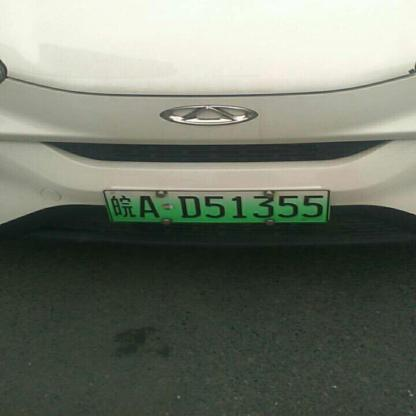lp: (101, 190, 329, 222)
